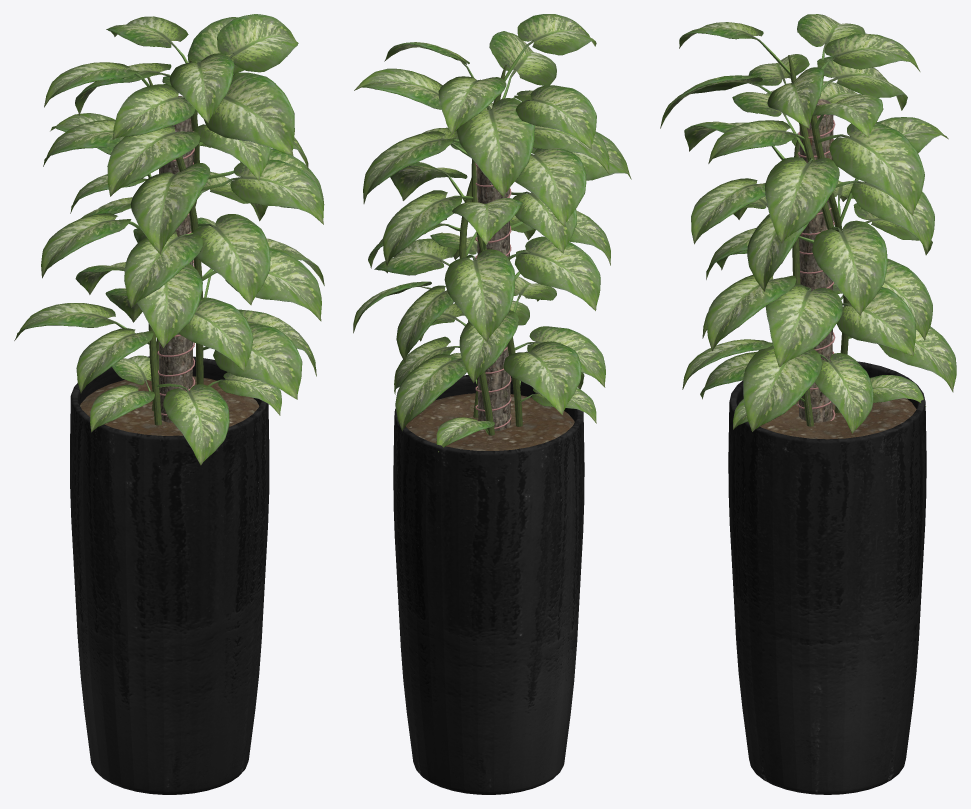
Rendered from Dieffenbachia_Plant_Pot.glb.
3 renders of one model, left to right at view 1: azimuth 30°, elevation 25°; view 2: azimuth 150°, elevation 25°; view 3: azimuth 270°, elevation 25°, orthographic. The views are drawn at different scales.
Parts seen in each view (by area): view 1: vase model.049, Dieffenbachia Plant, vase model.087, vase model.088; view 2: Dieffenbachia Plant, vase model.049, vase model.087, vase model.088; view 3: Dieffenbachia Plant, vase model.049, vase model.087, vase model.088.
Part boxes in pixels (bbox=[...]): vase model.049: bbox=[14, 14, 324, 465]; Dieffenbachia Plant: bbox=[70, 356, 269, 794]; vase model.087: bbox=[159, 117, 192, 422]; vase model.088: bbox=[147, 59, 203, 425]; Dieffenbachia Plant: bbox=[393, 375, 584, 794]; vase model.049: bbox=[353, 14, 631, 452]; vase model.087: bbox=[477, 166, 510, 431]; vase model.088: bbox=[459, 65, 522, 435]; Dieffenbachia Plant: bbox=[728, 361, 926, 794]; vase model.049: bbox=[660, 14, 956, 433]; vase model.087: bbox=[799, 115, 833, 422]; vase model.088: bbox=[788, 55, 849, 426].
Bounding box in the file's own units: 0.4189 × 1.18 × 0.4331.
3 materials, 2 textured.
